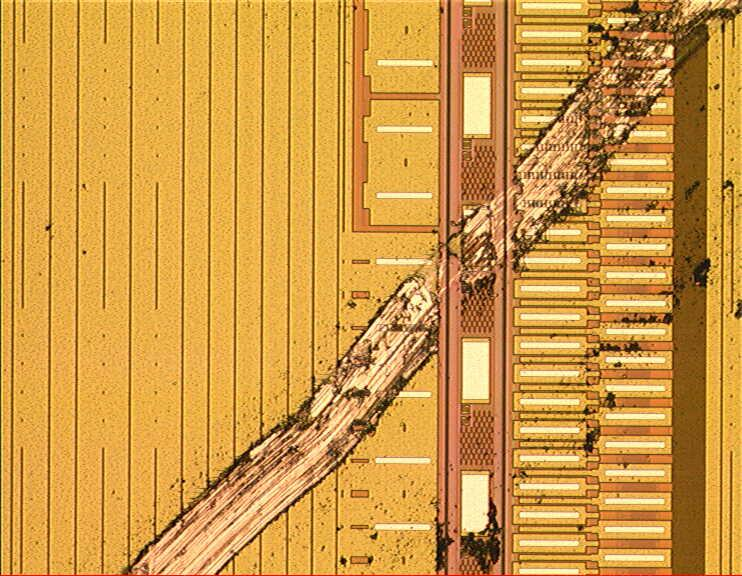SCRATCH: (84, 1, 742, 576)
